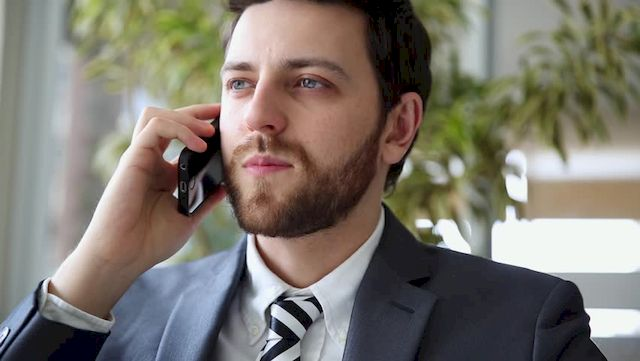phone: (174, 104, 228, 215)
talk: (96, 47, 379, 274)
